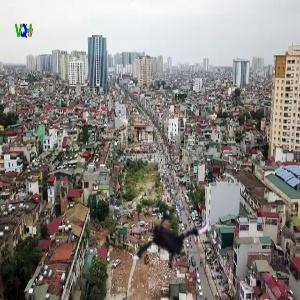drone: (118, 189, 217, 288)
